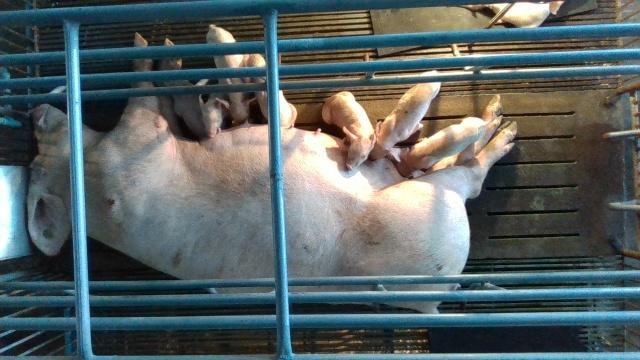piglet: (369, 69, 441, 162), (385, 118, 495, 177), (206, 25, 257, 124), (322, 91, 377, 171), (247, 54, 296, 128), (166, 80, 205, 138), (199, 93, 230, 138)
sow-sleep-lactate: (26, 33, 515, 315)
